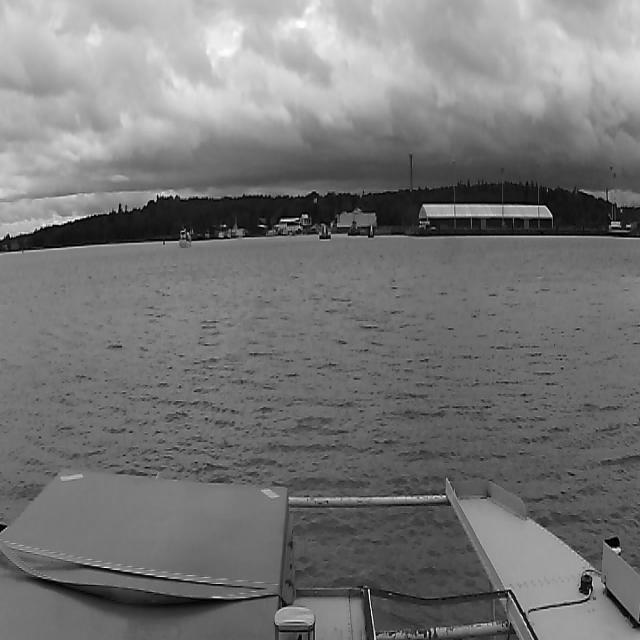ship: (179, 229, 191, 247), (319, 228, 331, 240)
